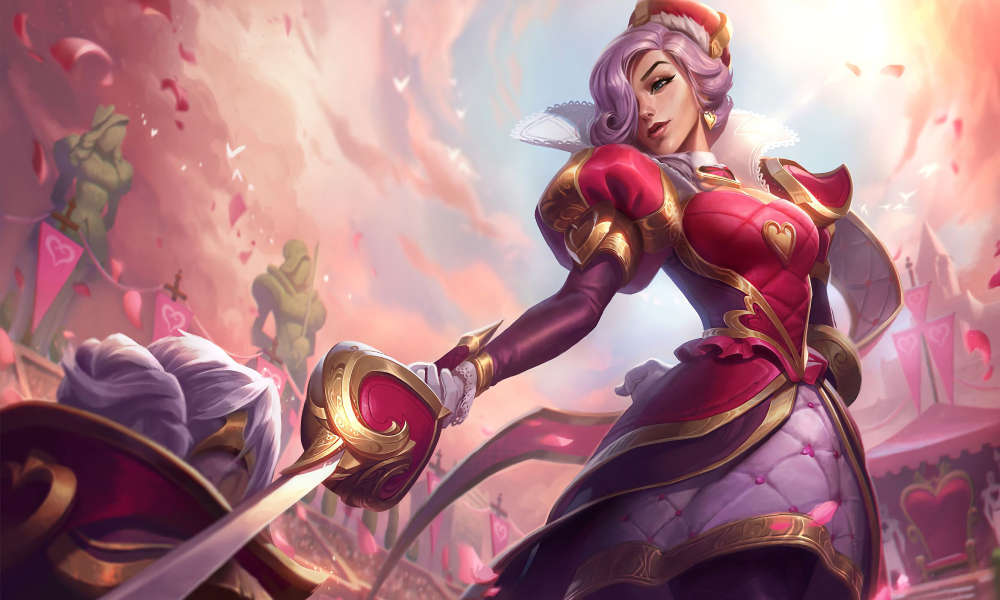face: (578, 2, 744, 160)
